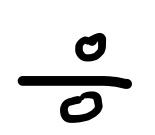div: (17, 32, 132, 123)
